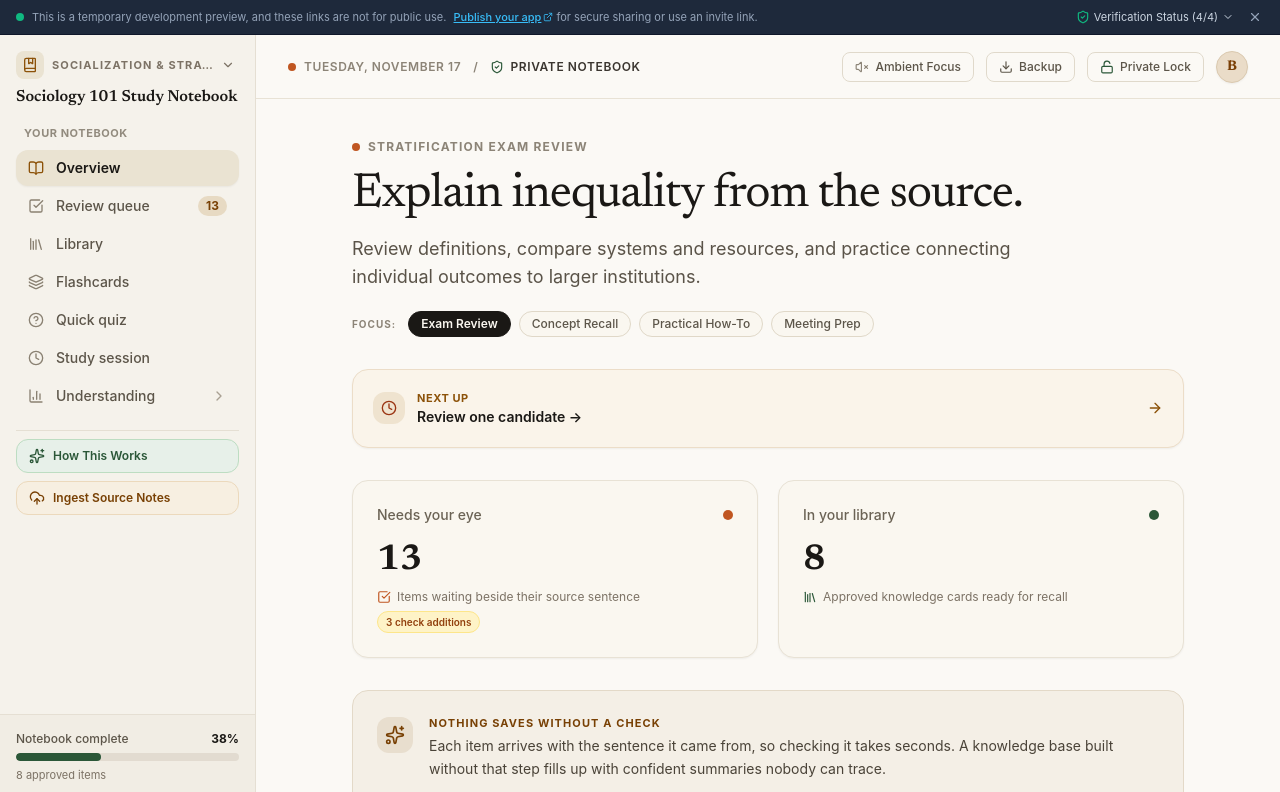
it: Living Study Guide End-to-End UI & Main Page Verification › flips flashcards, reveals verbatim source excerpt, and updates Leitner box progress
Later steps or results of the test are not shown.
Expected: the heading "Explain inequality from the source." is shown, [352,171,1022,219]
Click the button "Flashcards" at (128, 282), box [16,264,239,300]
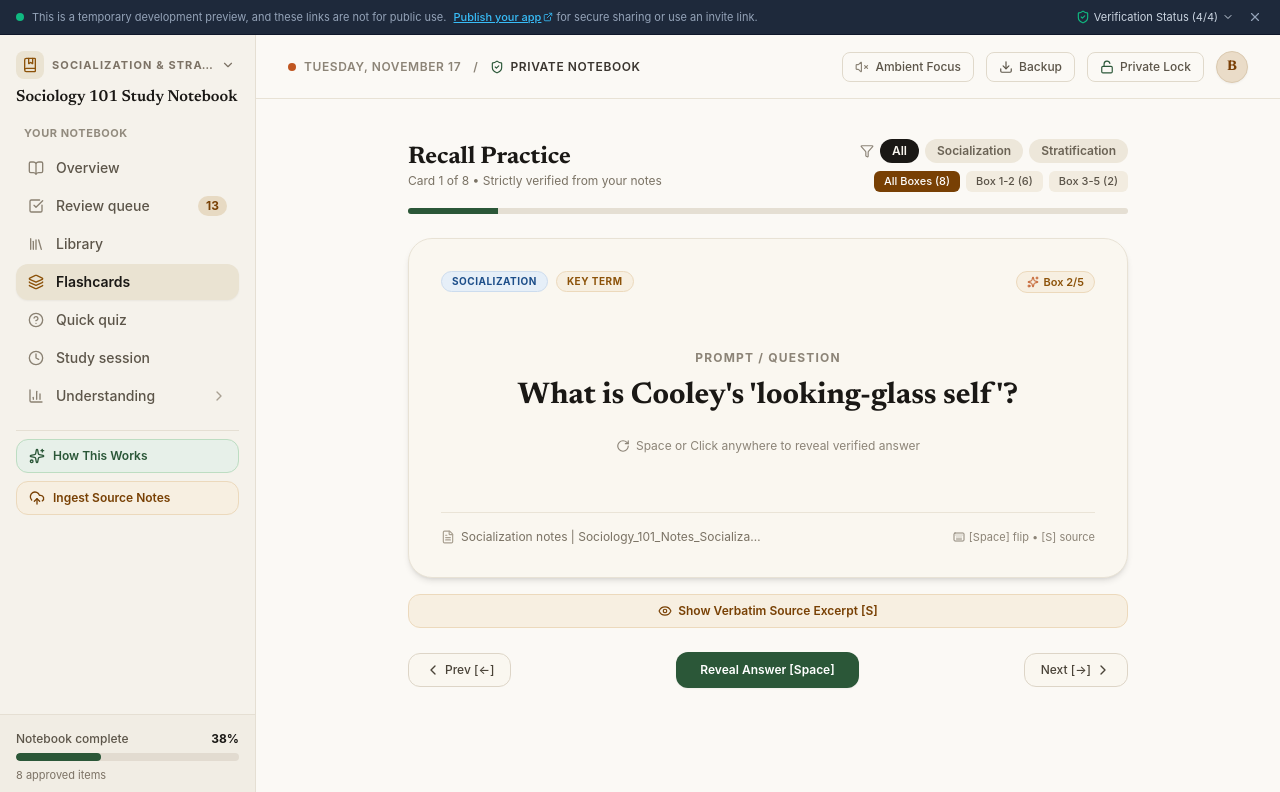
Now the text "Box 2/5" is shown, box [1044,274,1084,290]
Click the button "Show Verbatim Source Excerpt [S]" at (768, 610), box [408,594,1128,628]
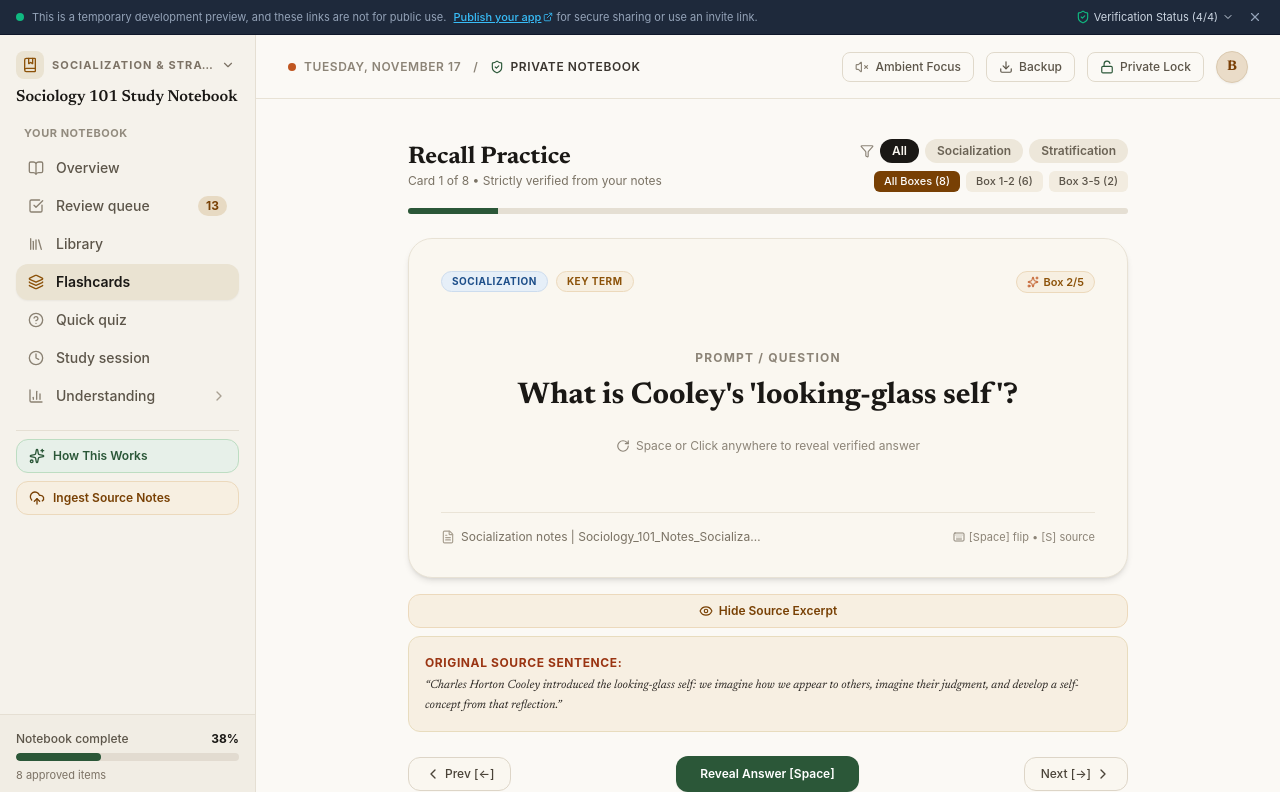
Now the text "Original Source Sentence:" is shown, box [425,654,622,670]
